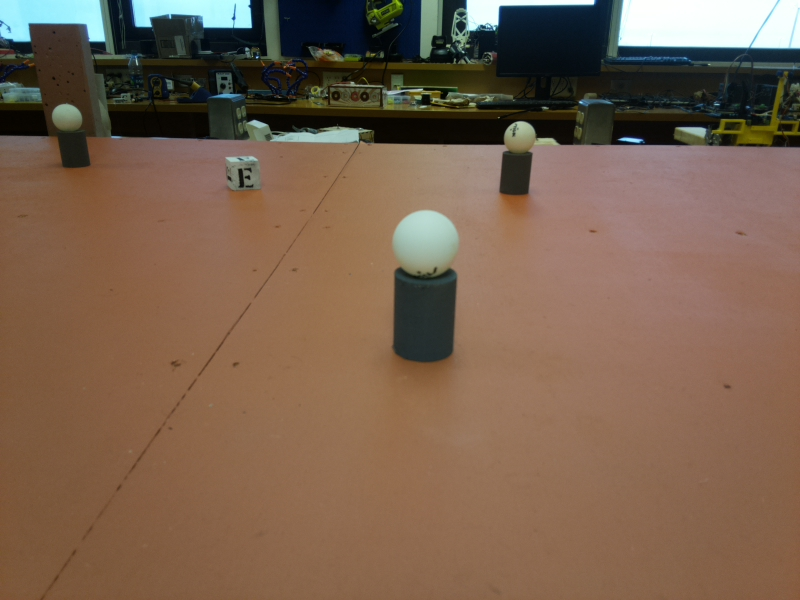blockE: (223, 149, 265, 193)
obstacle: (386, 209, 463, 363), (50, 103, 92, 171), (503, 116, 535, 198)
